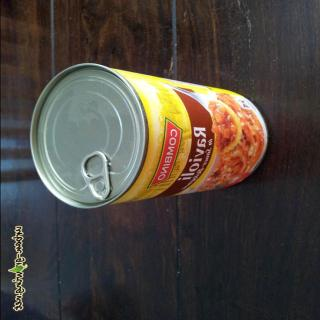Anorganik: (23, 62, 272, 209)
